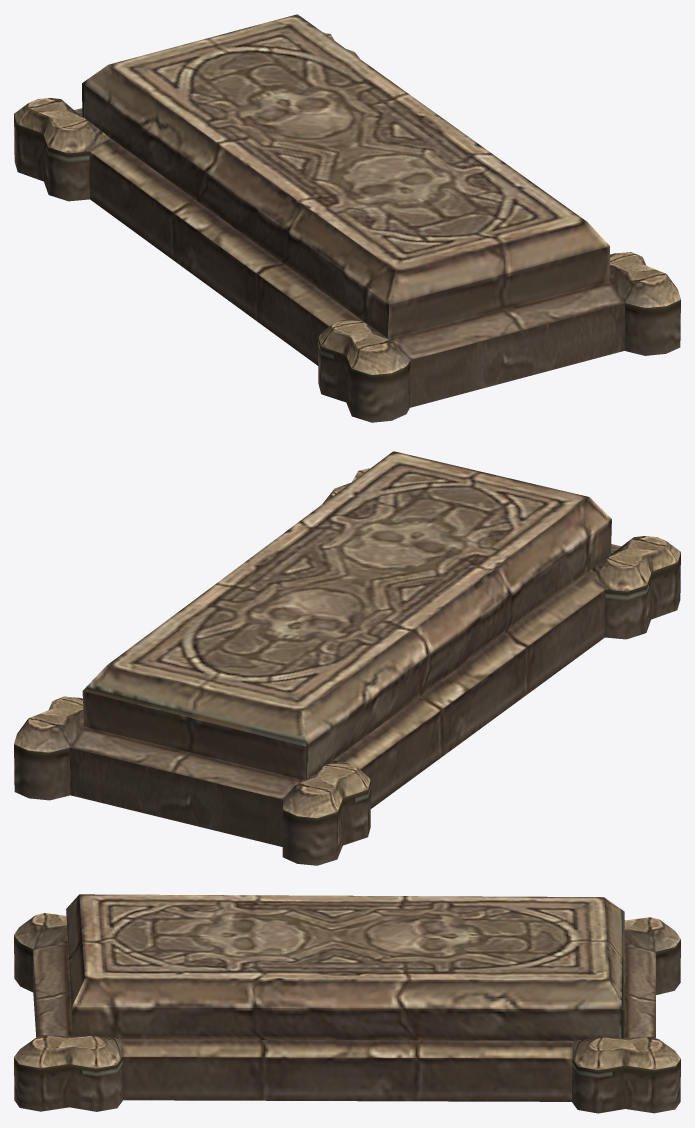
The model's file is dcfx_guanc_01.FBX.
3 views of the same model, one above another, from view 1: azimuth 30°, elevation 25°; view 2: azimuth 150°, elevation 25°; view 3: azimuth 270°, elevation 25° (orthographic). The views are drawn at different scales.
Parts seen in each view (by area): view 1: dcfx_guanc_01; view 2: dcfx_guanc_01; view 3: dcfx_guanc_01.
Part boxes in pixels (<box>): dcfx_guanc_01: <box>14,14,680,422</box>; dcfx_guanc_01: <box>14,451,680,865</box>; dcfx_guanc_01: <box>14,894,680,1113</box>.
Bounding box in the file's own units: 247 × 481 × 85.04.
